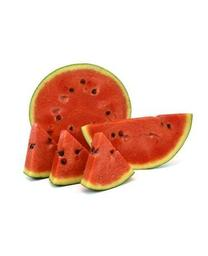watermelon: (21, 62, 193, 189)
